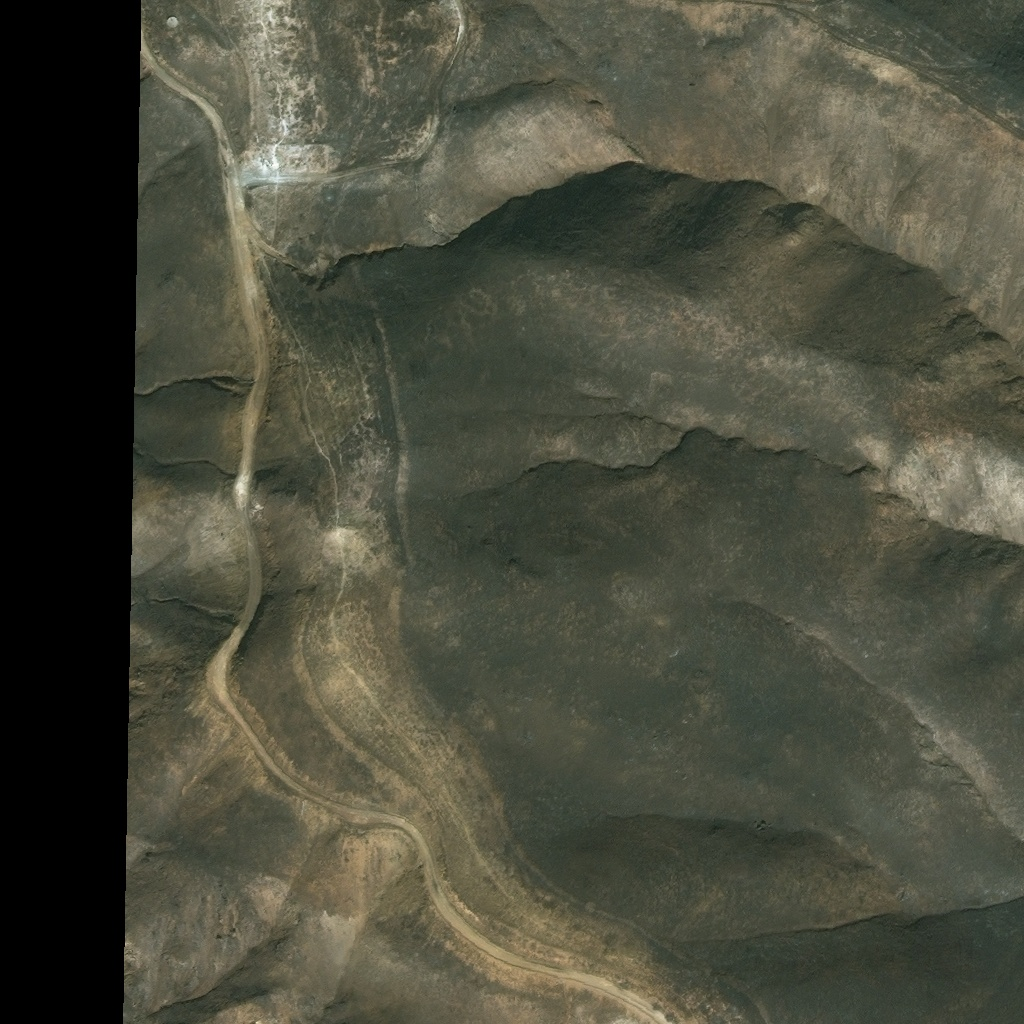0 no-damage: (165, 15, 176, 28)
